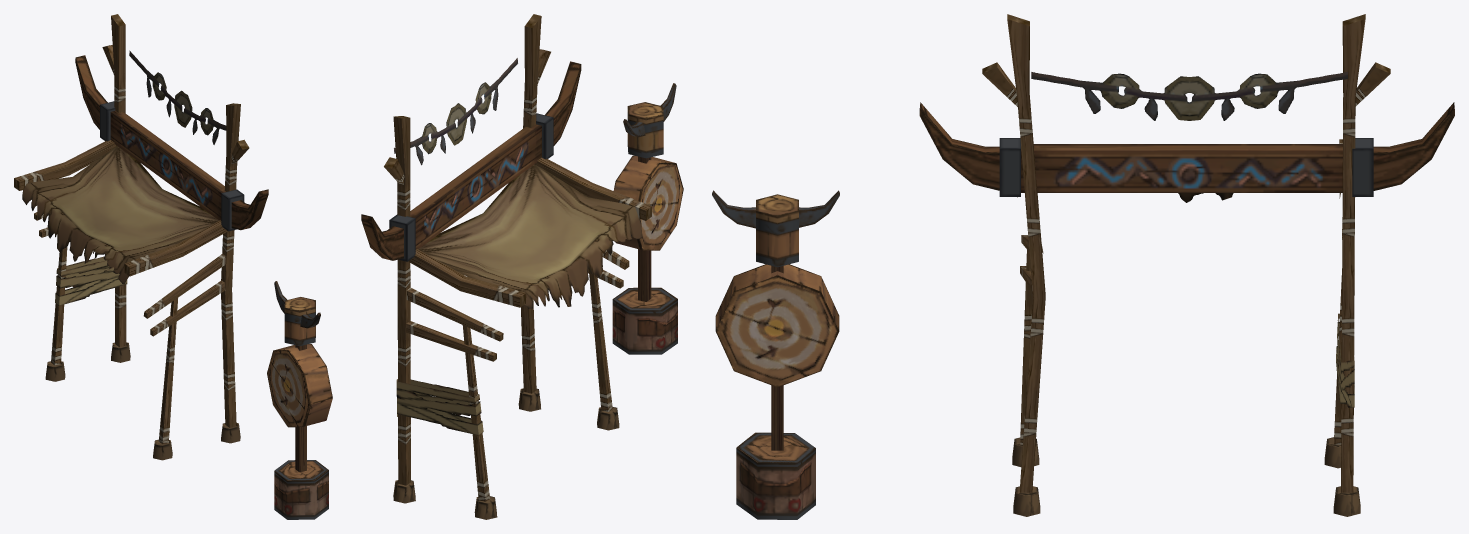
File: 2_GBL_JiaZiJianBa_01.FBX
3 renders of one model, left to right at view 1: azimuth 30°, elevation 25°; view 2: azimuth 150°, elevation 25°; view 3: azimuth 270°, elevation 25°, orthographic. The views are drawn at different scales.
Visible parts, largest first — view 1: 2_GBL_JiaZiJianBa_01, 2_GBL_JiaZiJianBa_02; view 2: 2_GBL_JiaZiJianBa_01, 2_GBL_JiaZiJianBa_02; view 3: 2_GBL_JiaZiJianBa_01, 2_GBL_JiaZiJianBa_02.
Boxes of the visible parts, x1=… form: 2_GBL_JiaZiJianBa_01: x1=14, y1=14, x2=268, y2=460; 2_GBL_JiaZiJianBa_02: x1=267, y1=281, x2=332, y2=519; 2_GBL_JiaZiJianBa_01: x1=361, y1=14, x2=651, y2=519; 2_GBL_JiaZiJianBa_02: x1=612, y1=83, x2=683, y2=354; 2_GBL_JiaZiJianBa_01: x1=919, y1=14, x2=1454, y2=516; 2_GBL_JiaZiJianBa_02: x1=712, y1=190, x2=839, y2=519.
Size of the model in its own units: 304 by 872 by 1176.
